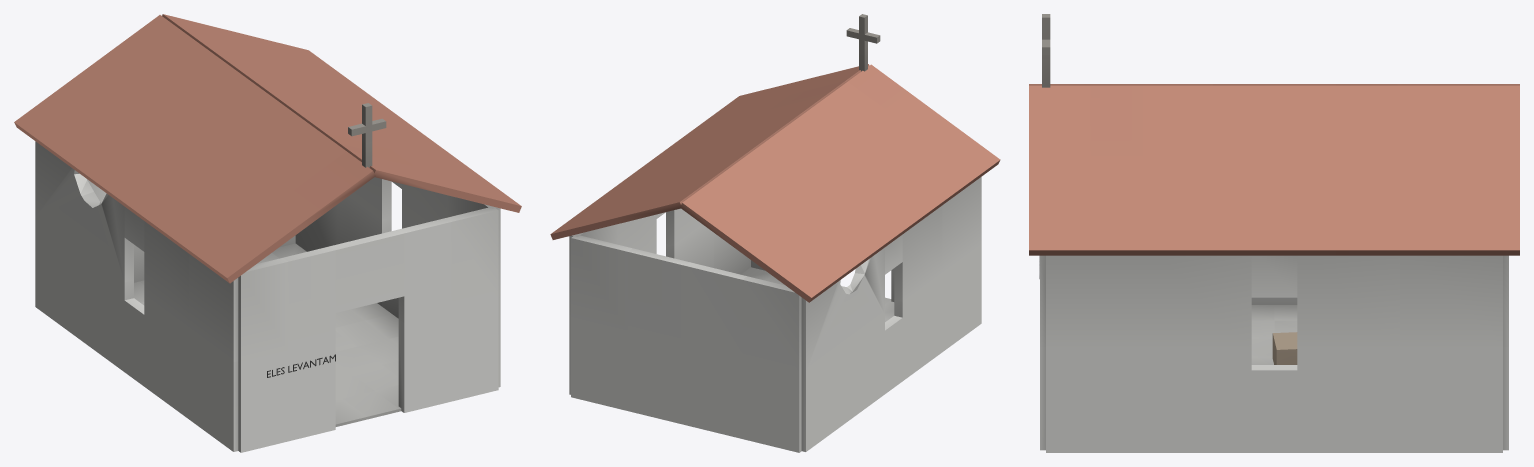
Rendered from capela.glb.
3 renders of one model, left to right at view 1: azimuth 30°, elevation 25°; view 2: azimuth 150°, elevation 25°; view 3: azimuth 270°, elevation 25°, orthographic. The views are drawn at different scales.
Parts seen in each view (by area): view 1: ext, longe, dentro, detalhe; view 2: ext, longe, detalhe, dentro; view 3: ext, longe, dentro, detalhe.
Part boxes in pixels (x1=…): ext: x1=35, y1=141, x2=500, y2=452; longe: x1=14, y1=14, x2=521, y2=283; dentro: x1=134, y1=243, x2=401, y2=426; detalhe: x1=267, y1=103, x2=386, y2=377; ext: x1=569, y1=177, x2=981, y2=452; longe: x1=550, y1=64, x2=1000, y2=302; detalhe: x1=846, y1=14, x2=880, y2=71; dentro: x1=741, y1=267, x2=894, y2=321; ext: x1=1040, y1=255, x2=1508, y2=452; longe: x1=1029, y1=84, x2=1519, y2=255; dentro: x1=1251, y1=305, x2=1297, y2=364; detalhe: x1=1039, y1=14, x2=1050, y2=278.
Size of what is drawn, in the model's own units: 6.86 by 7 by 8.6.
